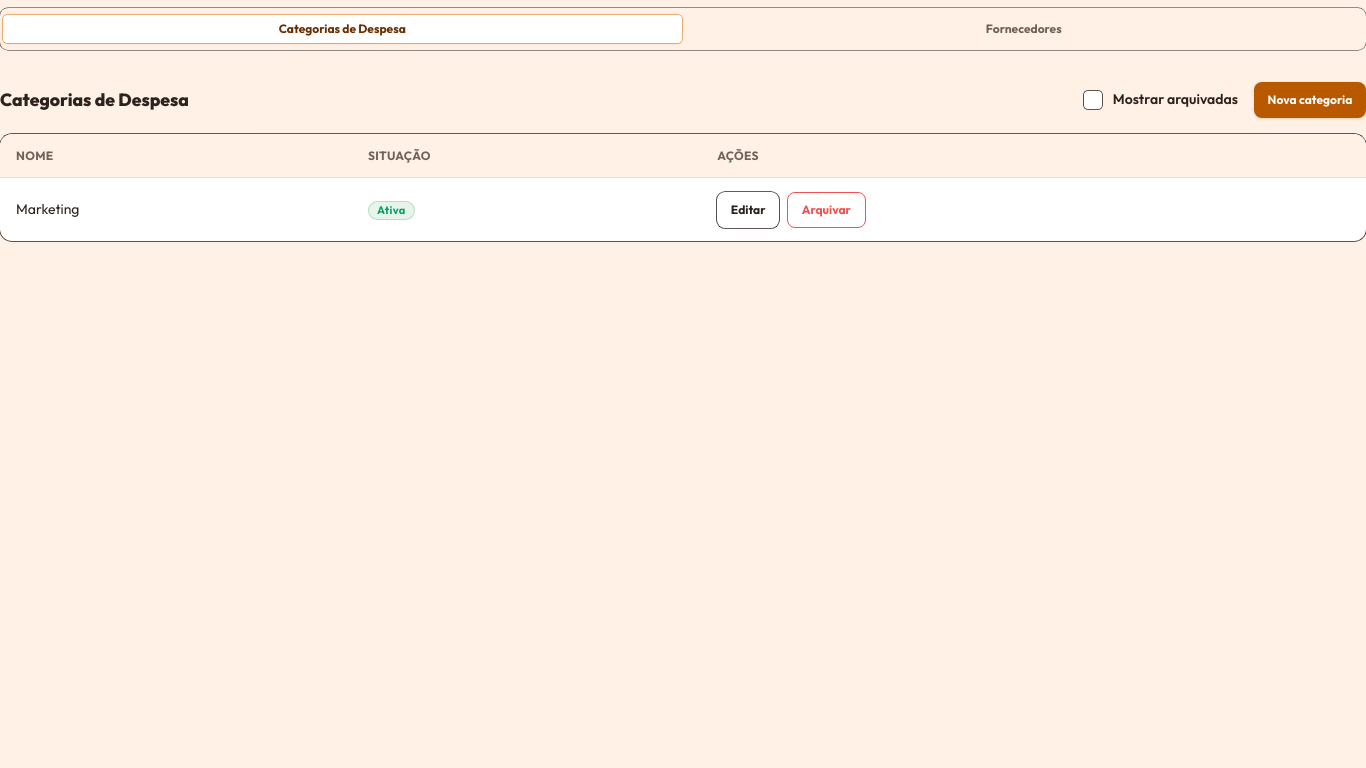
Test case: PlanoContasTab (adaptador em memória) › arquiva categoria com confirmação pelo ConfirmDialog
Check: the text "Marketing" is shown, box [0,178,352,241]
Click the button "Arquivar" at (826, 210), box [787,192,866,228]
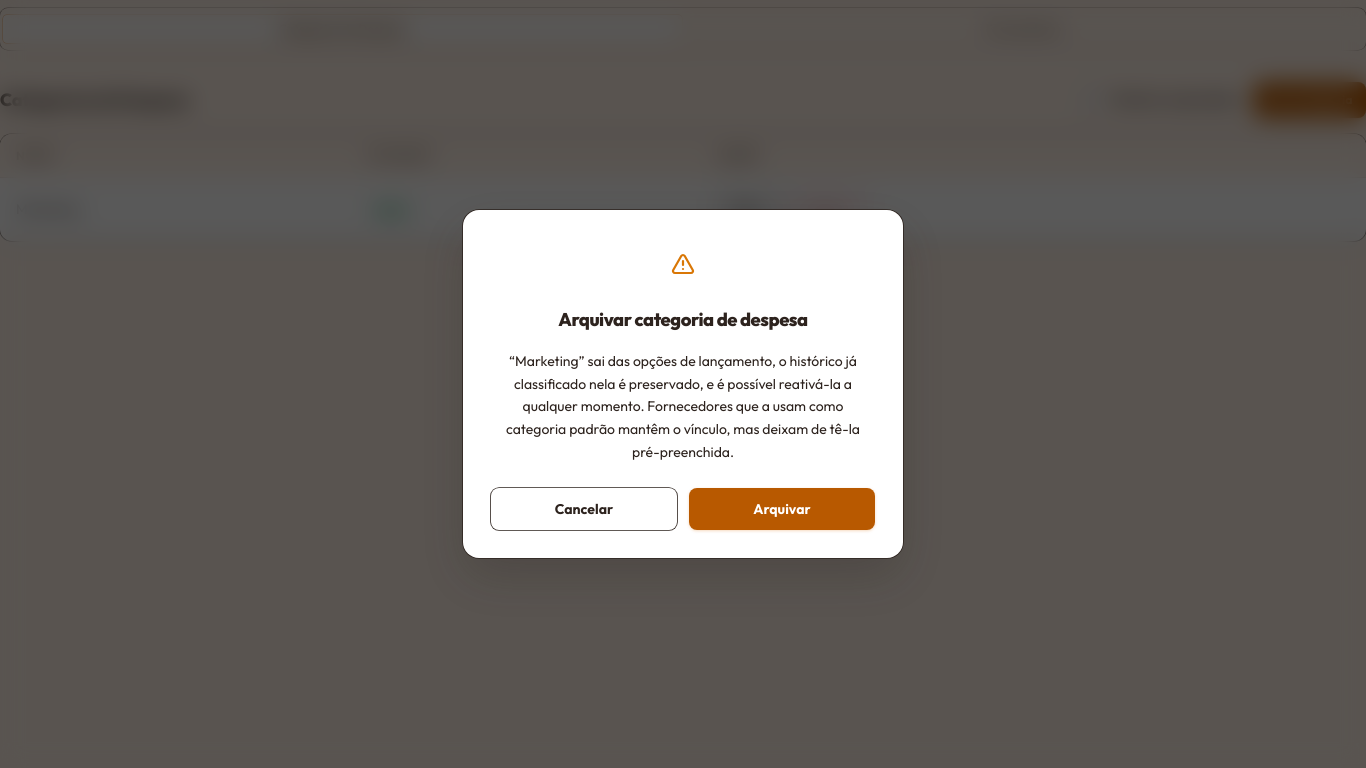
Check: the text "sai das opções de lançamento" is shown, box [506,352,860,461]
Click the button "Arquivar" at (782, 509), box [689,488,875,530]
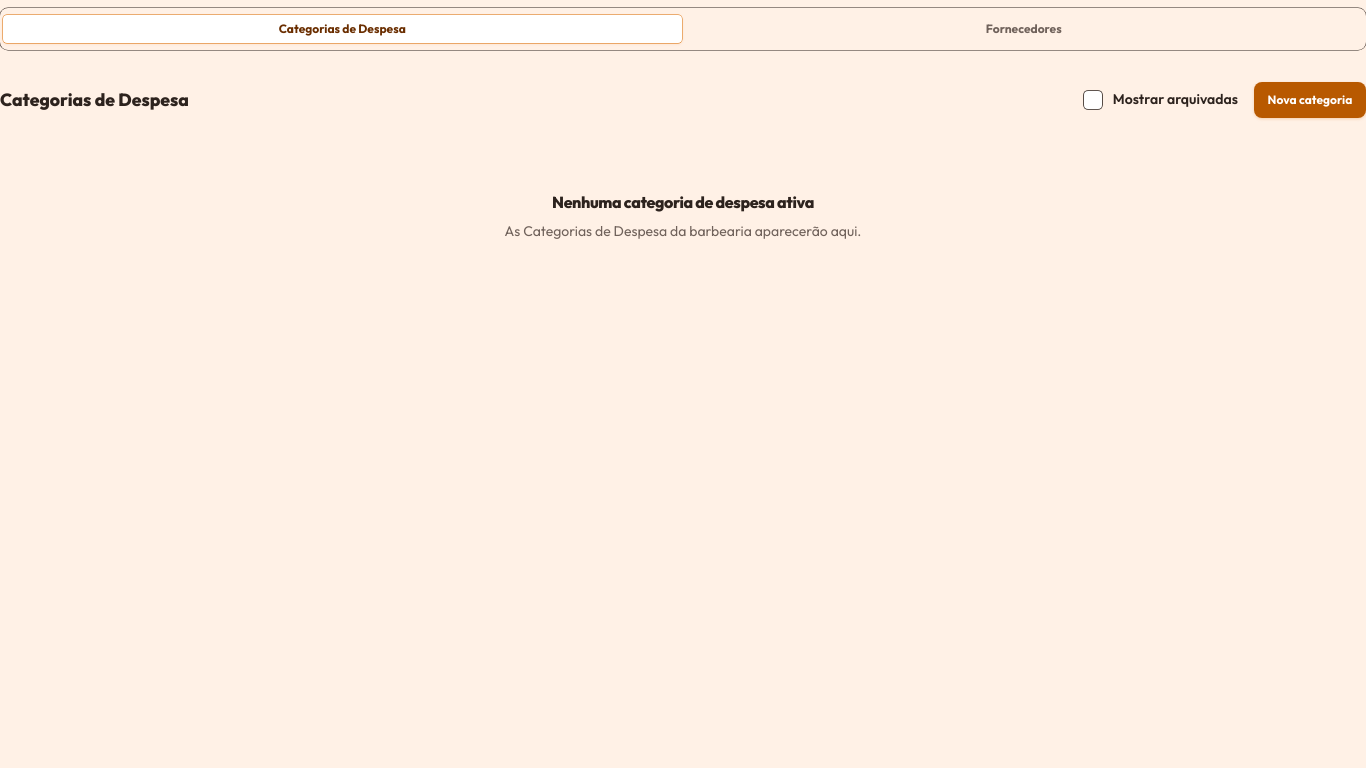
Check: the text "Marketing" is gone
Check: the heading "Nenhuma categoria de despesa ativa" is shown, box [552,190,814,214]
